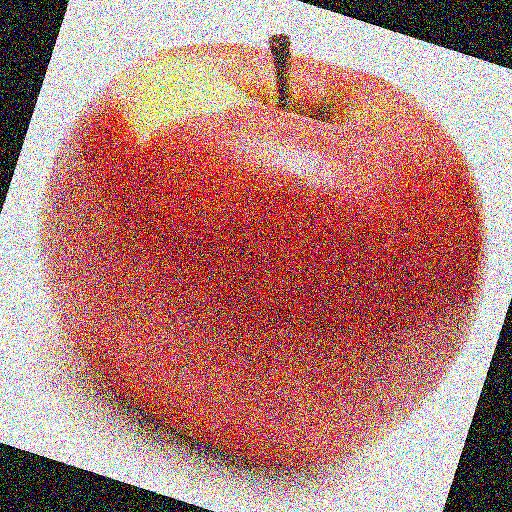fruit: (0, 67, 107, 378)
